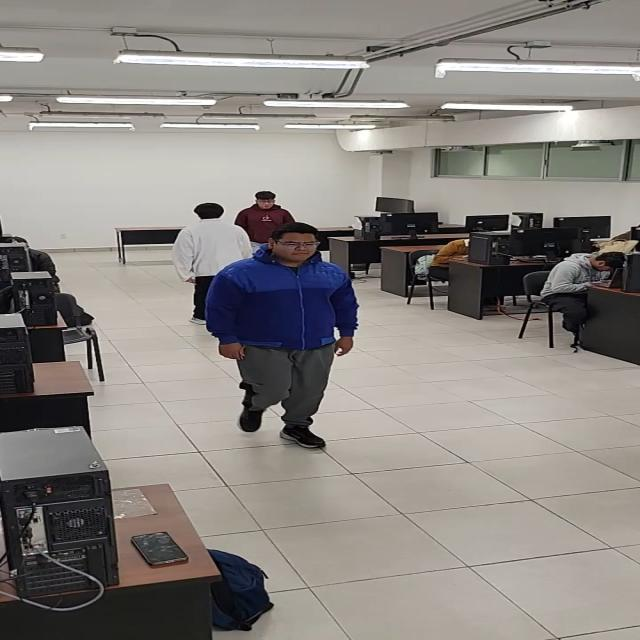Persona: (206, 224, 360, 449), (178, 202, 254, 276), (238, 190, 297, 241)
